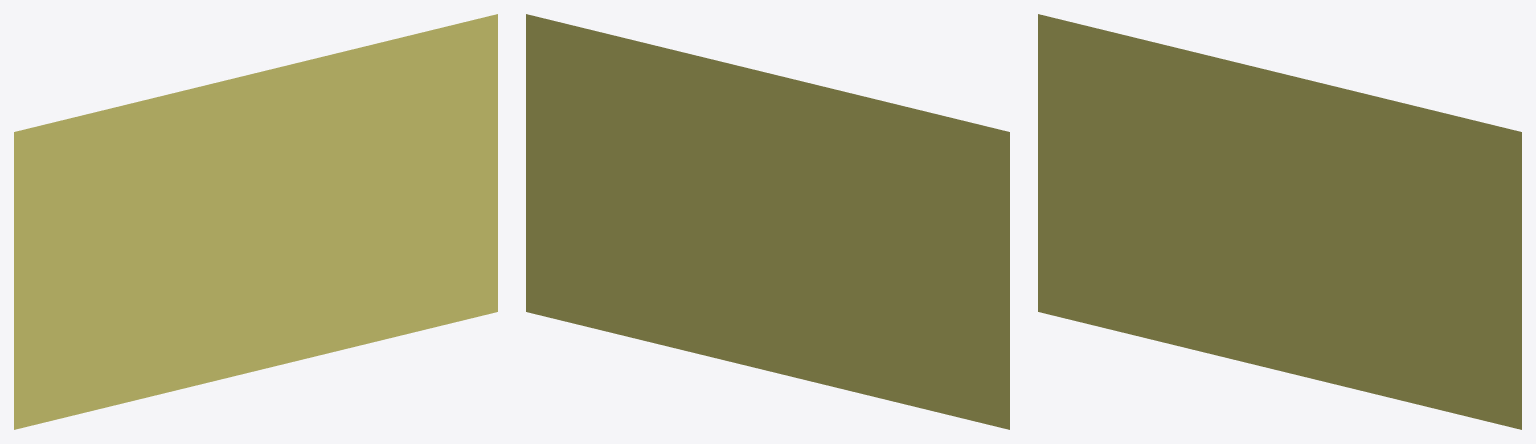
File: Itr_Wall_Color_06.FBX
3 renders of one model, left to right at view 1: azimuth 30°, elevation 25°; view 2: azimuth 150°, elevation 25°; view 3: azimuth 330°, elevation 25°, orthographic.
Parts seen in each view (by area): view 1: Itr_Wall_Color_06; view 2: Itr_Wall_Color_06; view 3: Itr_Wall_Color_06.
Boxes of the visible parts, box(x1,y1,x2,y2) form: Itr_Wall_Color_06: box(14, 14, 497, 429); Itr_Wall_Color_06: box(526, 14, 1009, 429); Itr_Wall_Color_06: box(1038, 14, 1521, 429).
Size of the model in its own units: 118 by 69.49 by 3.05e-05.
